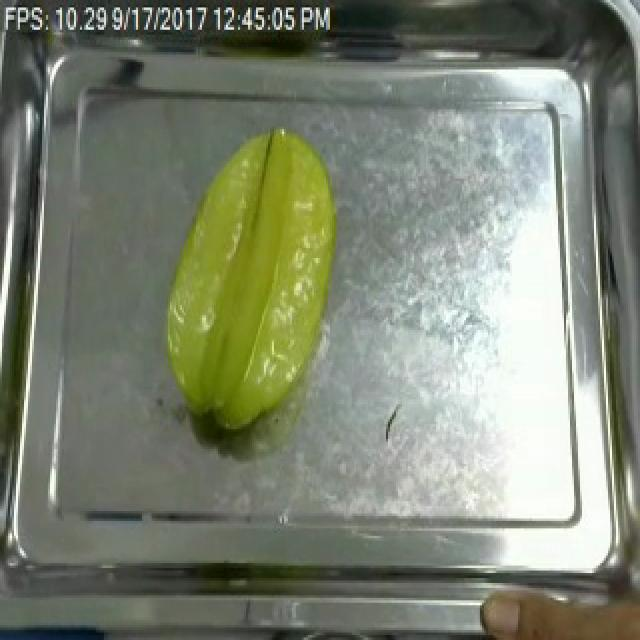fruit: (148, 114, 346, 444), (472, 565, 640, 640)
